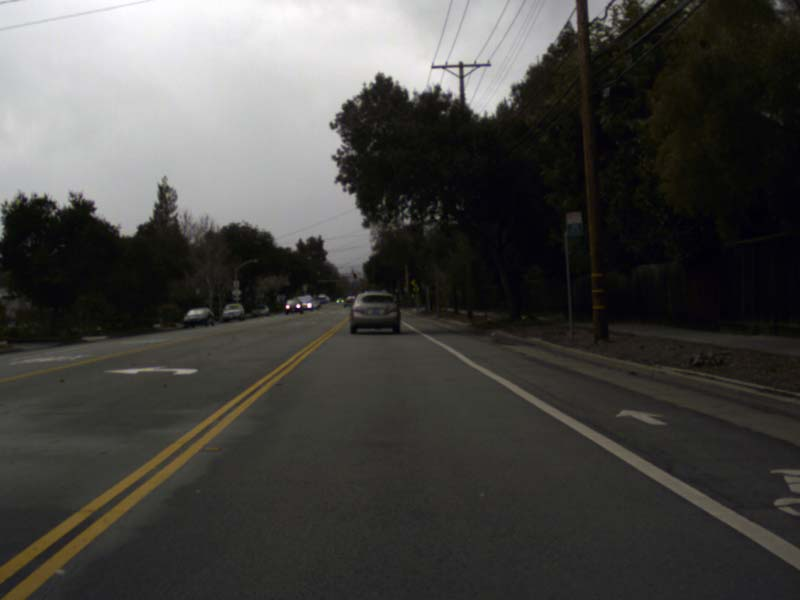Red: (353, 270, 356, 278)
